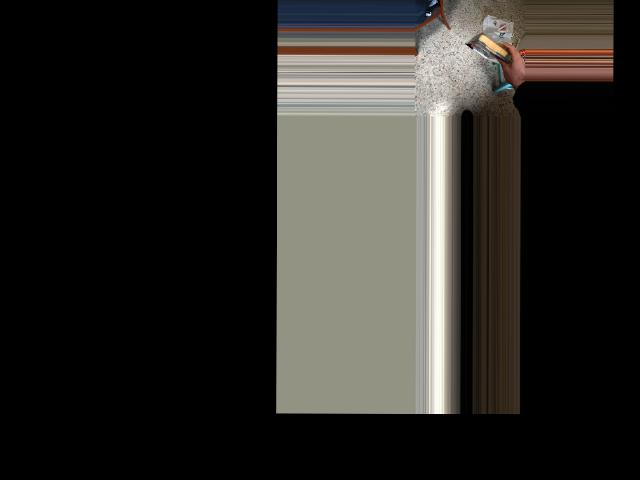cheese: (465, 31, 523, 67)
